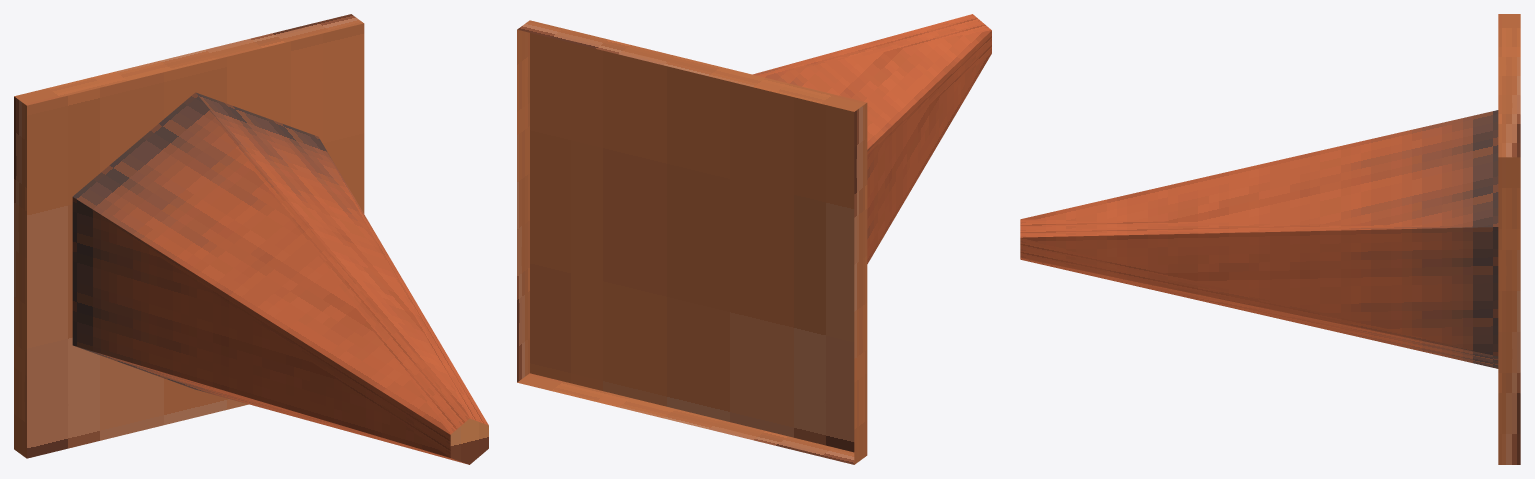
File: pz_native_street_decoration_01_26.obj
3 views of the same model, side by side, from view 1: azimuth 30°, elevation 25°; view 2: azimuth 150°, elevation 25°; view 3: azimuth 270°, elevation 25° (orthographic). The views are drawn at different scales.
Parts seen in each view (by area): view 1: pz_native_street_decoration_01_26; view 2: pz_native_street_decoration_01_26; view 3: pz_native_street_decoration_01_26.
Part boxes in pixels (box(x1,y1,x2,y2)): pz_native_street_decoration_01_26: box(14, 14, 488, 464); pz_native_street_decoration_01_26: box(517, 14, 991, 464); pz_native_street_decoration_01_26: box(1020, 14, 1520, 464).
Bounding box in the file's own units: 0.38 × 0.38 × 0.56.
1 material, 1 textured.
